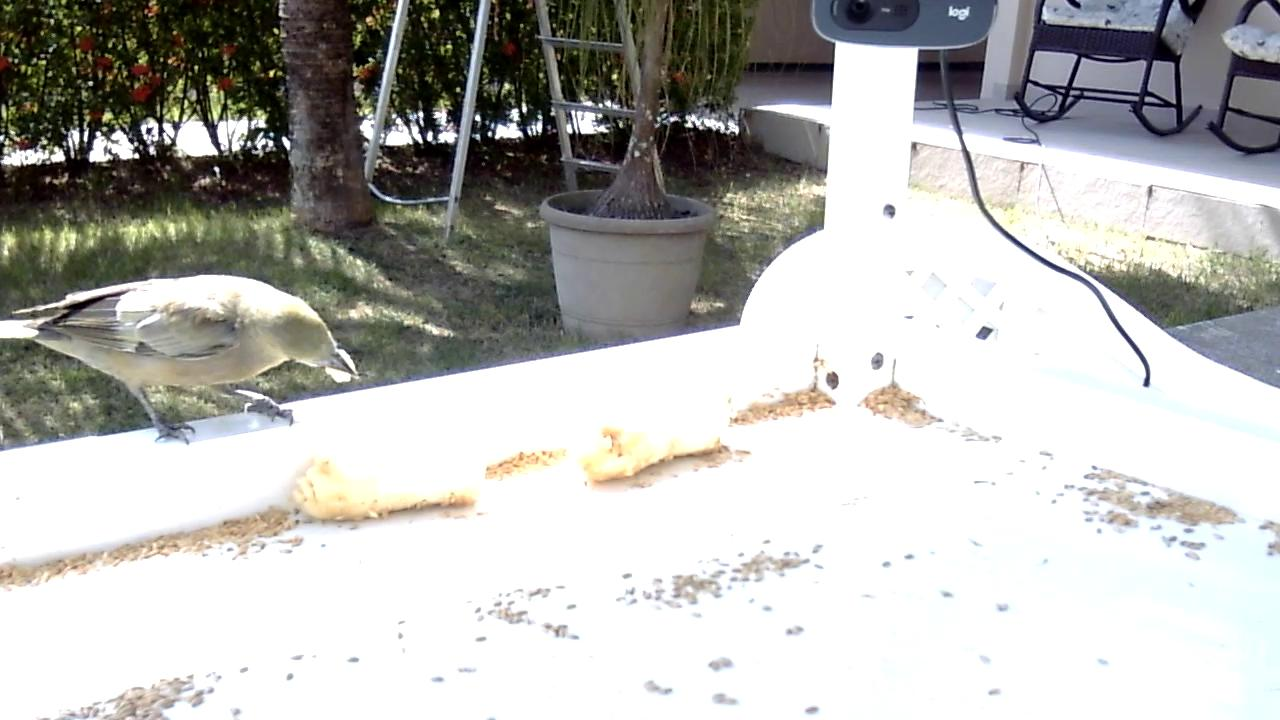sanhaco_do_coqueiro: (1, 272, 364, 450)
